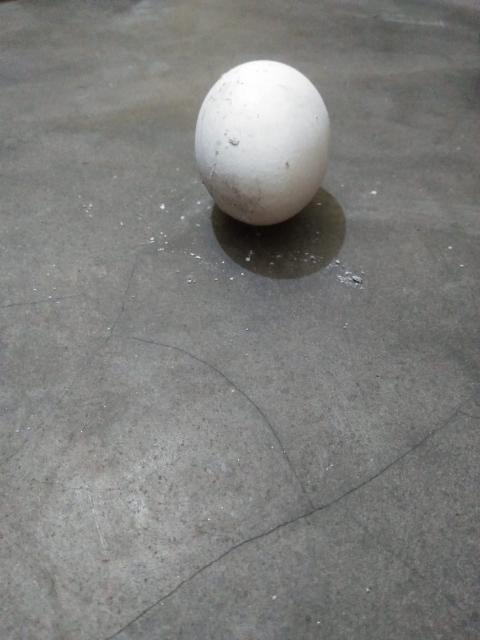Sano: (193, 60, 330, 227)
